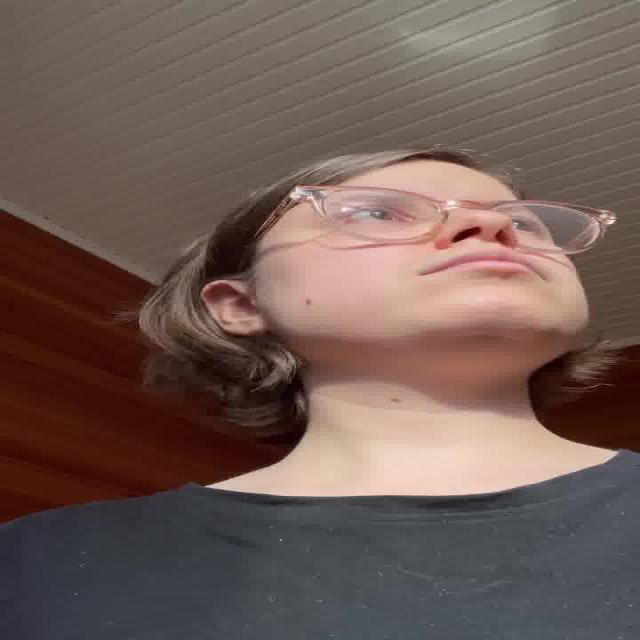earlobe: (228, 315, 268, 337)
eye: (342, 207, 416, 226), (500, 212, 546, 235)
nose: (433, 235, 520, 251)
wholeear: (201, 280, 267, 336)
